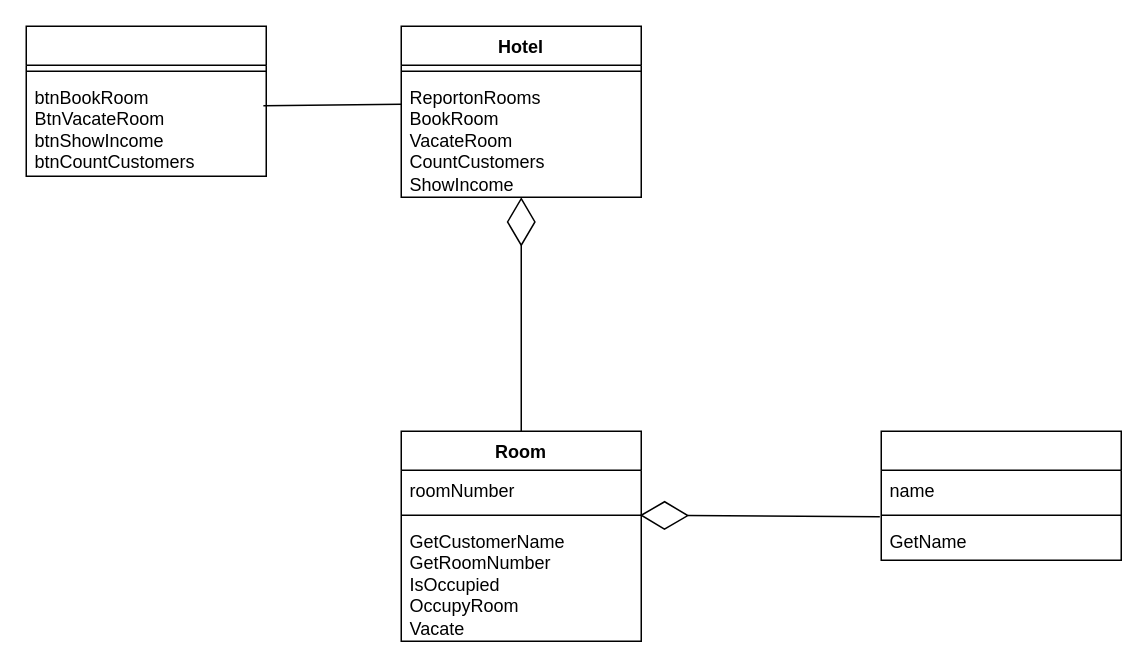
Image size: 1148x672. Some labels were removed from this diagram. The box of each missing label's shape, as (x1, y1, x2, y2) in pixels:
Customer: (880, 430, 1121, 560)
Form(UI): (25, 25, 266, 176)
